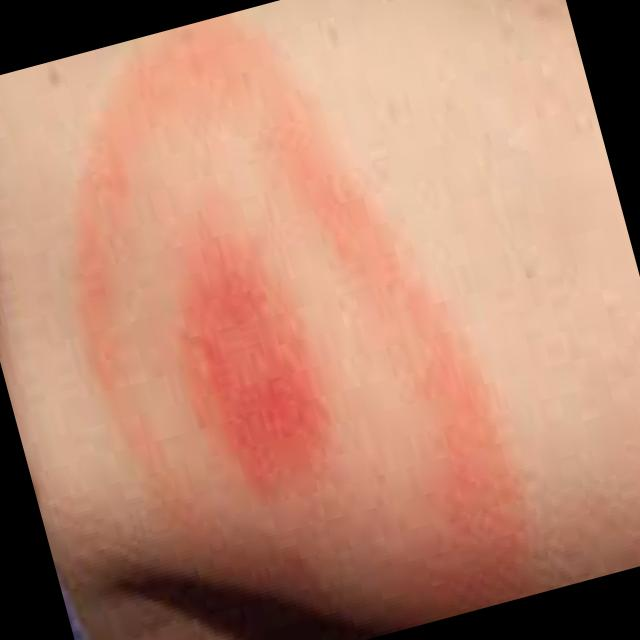kene: (135, 176, 363, 531)
